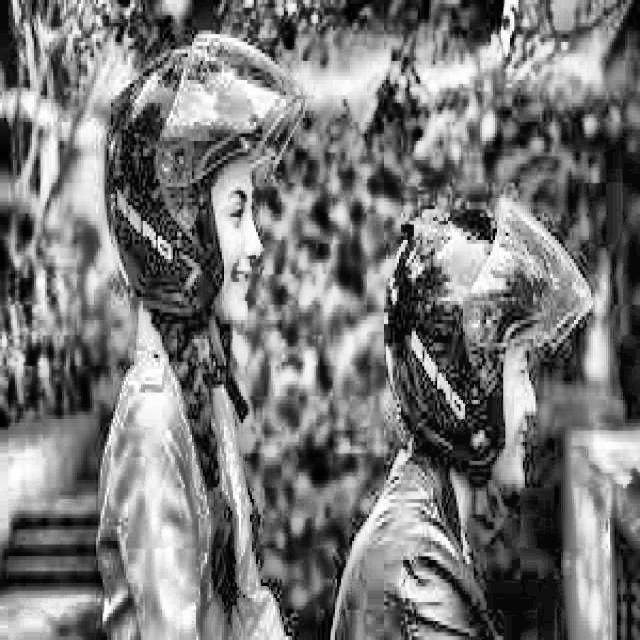Helmet: (106, 26, 307, 318), (385, 202, 595, 479)
